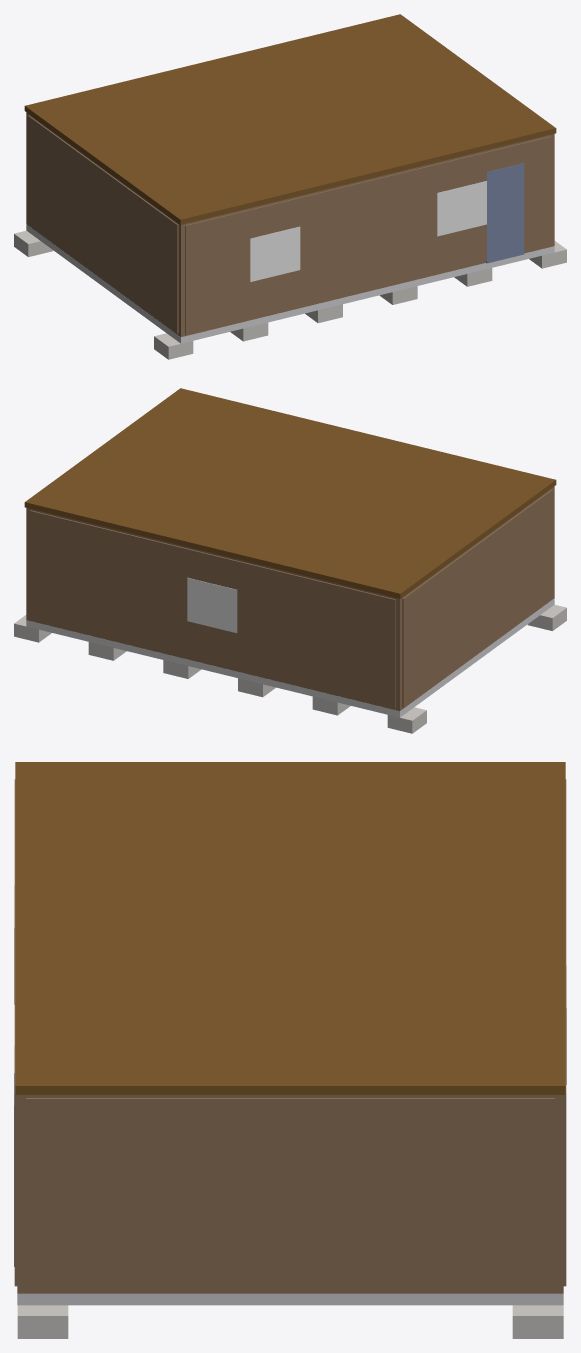
Rendered from Studio-30-Base-DarkBrown-LOD2.glb.
The picture shows the model from 3 angles, top to bottom: view 1: azimuth 30°, elevation 25°; view 2: azimuth 150°, elevation 25°; view 3: azimuth 270°, elevation 25°; orthographic projection. The views are drawn at different scales.
Visible parts, largest first — view 1: RoofMain, ExteriorPanelsStandard, WindowsStandard, BaseFrame, FoundationBlocks, ExteriorShell, EntryDoor; view 2: RoofMain, ExteriorPanelsStandard, BaseFrame, ExteriorShell, FoundationBlocks, WindowsStandard; view 3: RoofMain, ExteriorPanelsStandard, BaseFrame, ExteriorShell, FoundationBlocks.
Part boxes in pixels (left/top/right/bottom): RoofMain: left=24, top=14, right=556, bottom=224; ExteriorPanelsStandard: left=27, top=115, right=550, bottom=334; WindowsStandard: left=250, top=181, right=486, bottom=281; BaseFrame: left=26, top=224, right=554, bottom=343; FoundationBlocks: left=14, top=230, right=566, bottom=359; ExteriorShell: left=26, top=112, right=554, bottom=336; EntryDoor: left=486, top=163, right=524, bottom=263; RoofMain: left=24, top=388, right=556, bottom=598; ExteriorPanelsStandard: left=30, top=489, right=553, bottom=708; BaseFrame: left=26, top=598, right=554, bottom=717; ExteriorShell: left=26, top=486, right=554, bottom=710; FoundationBlocks: left=14, top=604, right=566, bottom=733; WindowsStandard: left=187, top=577, right=237, bottom=633; RoofMain: left=15, top=762, right=565, bottom=1094; ExteriorPanelsStandard: left=14, top=779, right=566, bottom=1290; BaseFrame: left=17, top=1293, right=563, bottom=1305; ExteriorShell: left=17, top=1095, right=563, bottom=1293; FoundationBlocks: left=17, top=1305, right=563, bottom=1338.
Bounding box in the file's own units: 9.6 × 3.17 × 6.53.
